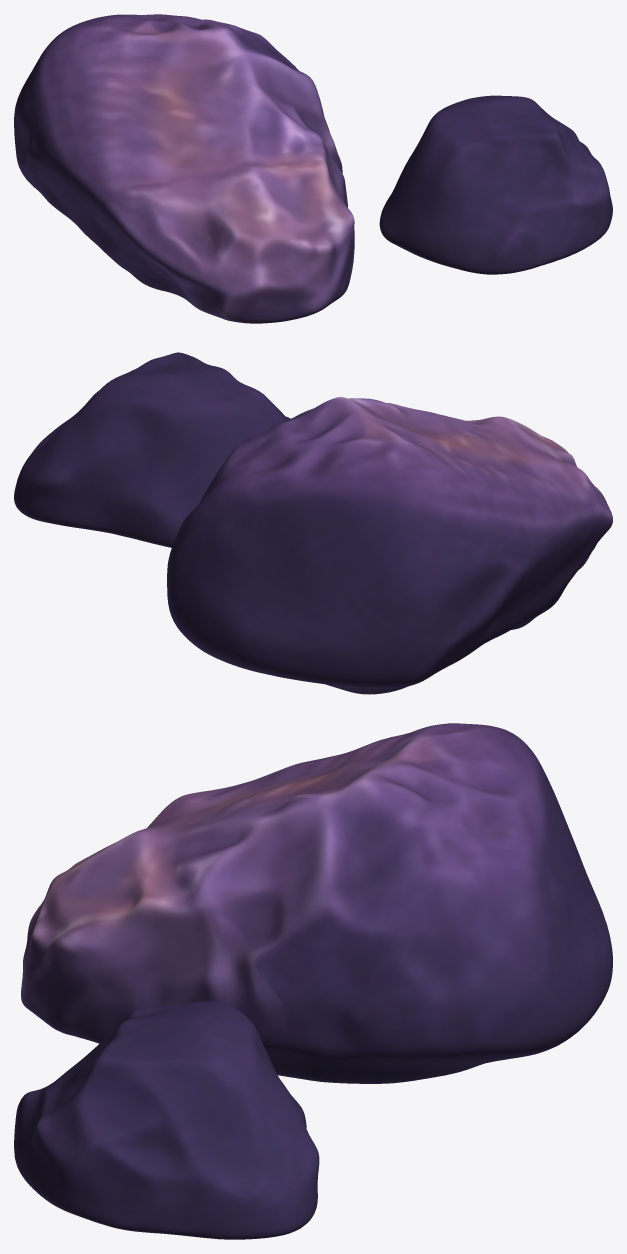
Rendered from Meshy_AI_Amethyst_Pair_0919001203_texture.glb.
3 views of the same model, one above another, from view 1: azimuth 30°, elevation 25°; view 2: azimuth 150°, elevation 25°; view 3: azimuth 270°, elevation 25° (orthographic). The views are drawn at different scales.
Size of the model in its own units: 1.9 by 0.7174 by 1.5.
Materials: 1 (1 with a texture image).
